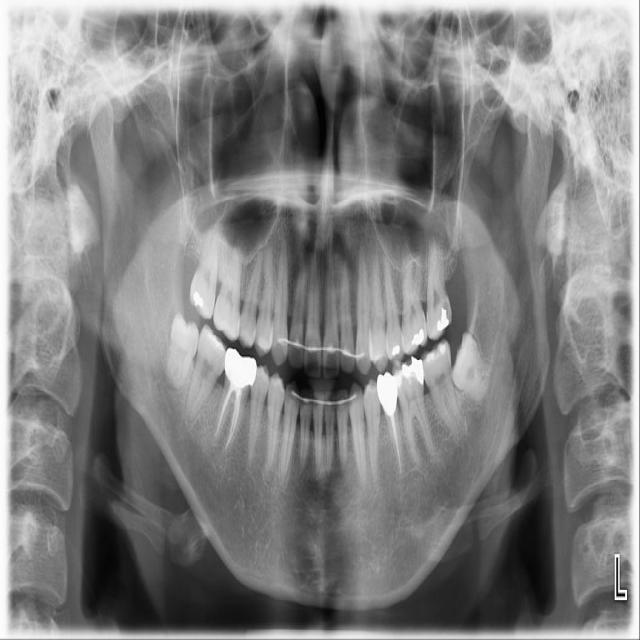52: (214, 345, 264, 393), (416, 337, 459, 390), (185, 272, 219, 321), (197, 323, 226, 380), (392, 355, 424, 405), (401, 310, 429, 357), (425, 295, 453, 341), (382, 322, 408, 369), (376, 370, 400, 417)
73: (209, 376, 252, 456), (383, 404, 413, 483), (588, 572, 592, 578)
BioHorizons Implant: (426, 233, 452, 341)
Biomet 3i Implant: (444, 330, 503, 405)
Blue Sky Bio Implant: (417, 338, 465, 446)
Caries: (186, 219, 226, 320)
Implant: (179, 323, 233, 430)
Keystone Dental Implant: (163, 312, 202, 392)
